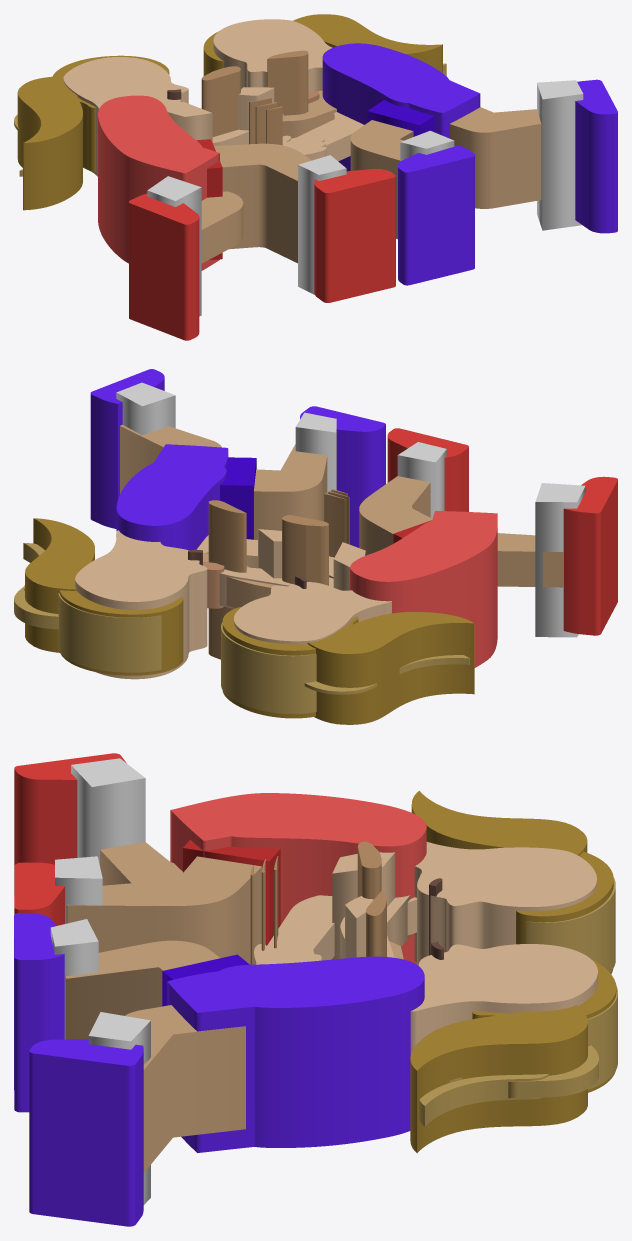
File: emoji_u1f93c_1f3fc_200d_2640.glb
3 renders of one model, top to bottom at view 1: azimuth 30°, elevation 25°; view 2: azimuth 150°, elevation 25°; view 3: azimuth 270°, elevation 25°, orthographic. The views are drawn at different scales.
Parts seen in each view (by area): view 1: emoji_u1f93c_1f3fc_200d_2640; view 2: emoji_u1f93c_1f3fc_200d_2640; view 3: emoji_u1f93c_1f3fc_200d_2640.
Part boxes in pixels (x1,y1,x2,y2): emoji_u1f93c_1f3fc_200d_2640: [14, 14, 617, 340]; emoji_u1f93c_1f3fc_200d_2640: [14, 369, 617, 724]; emoji_u1f93c_1f3fc_200d_2640: [14, 753, 617, 1226].
Bounding box in the file's own units: 0.0327 × 0.0096 × 0.0266.
